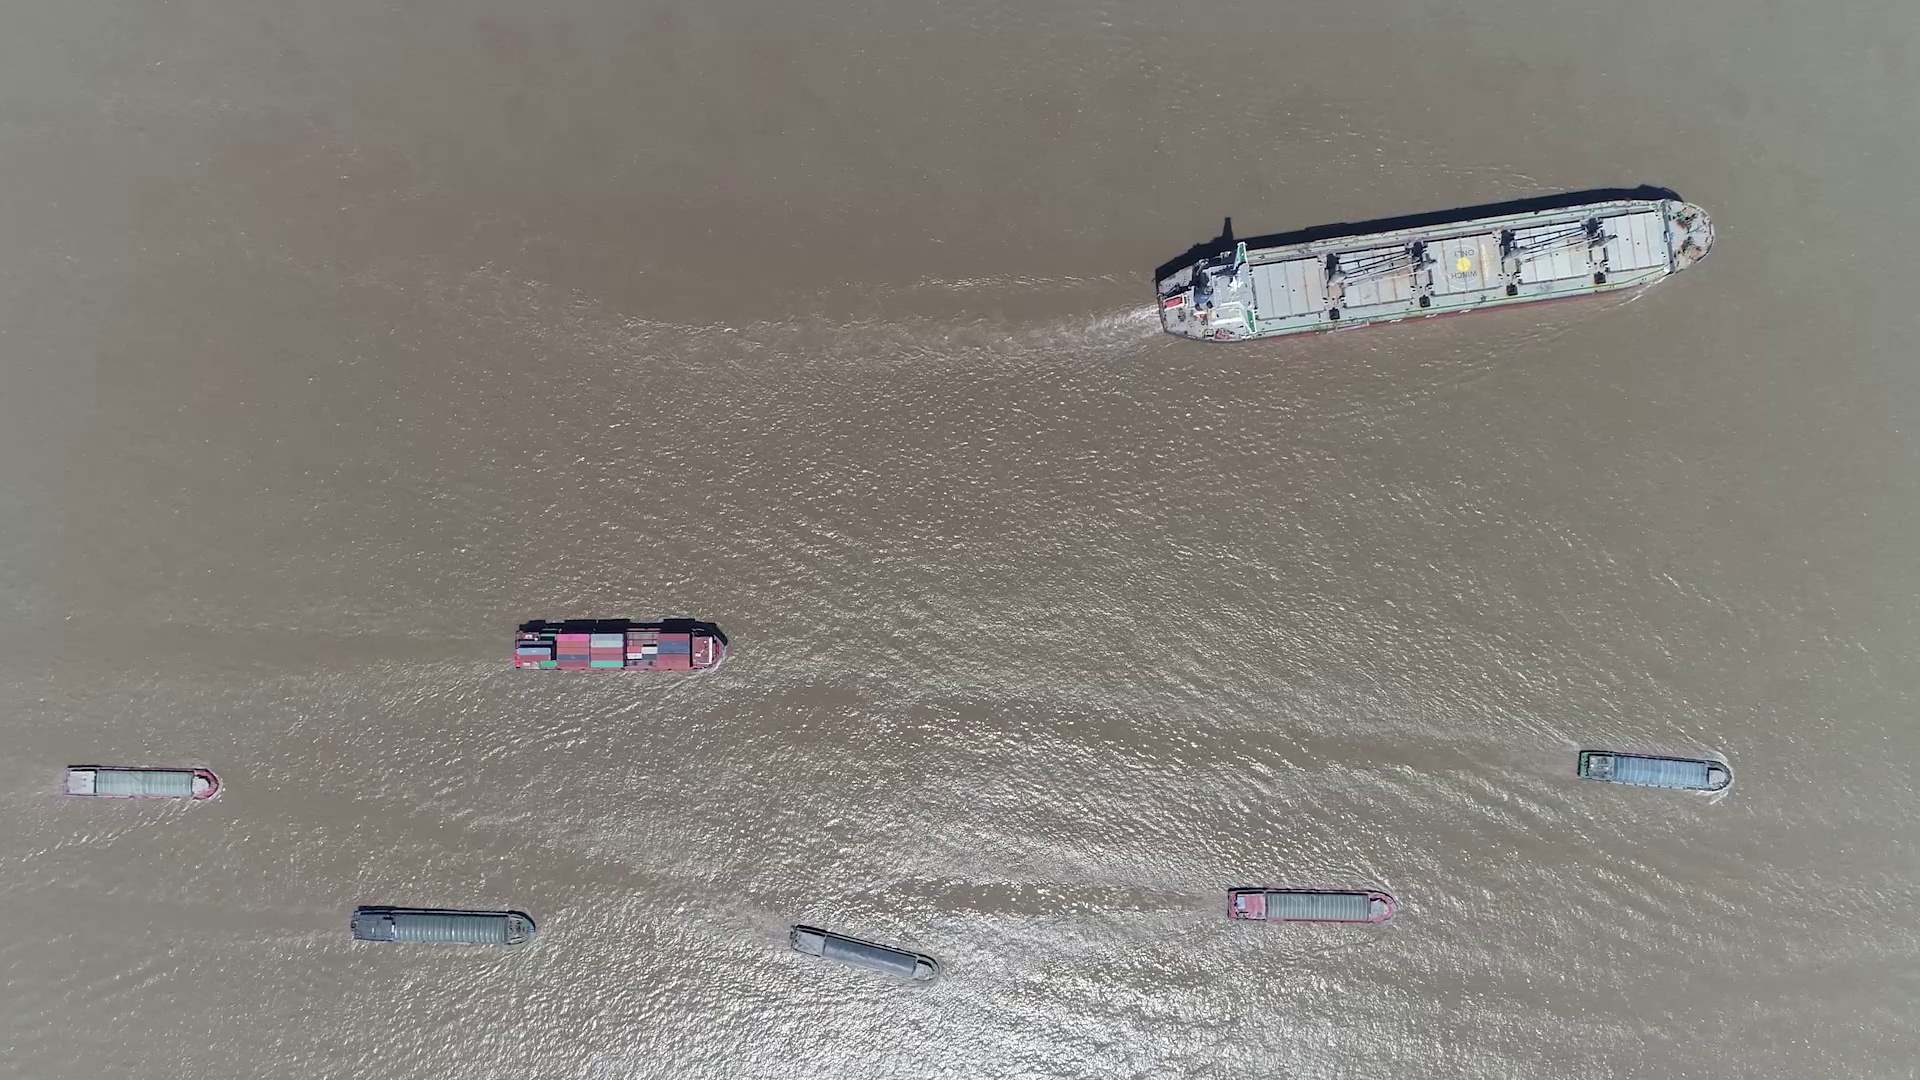ship: (1149, 200, 1714, 342), (512, 622, 724, 673), (787, 924, 938, 981), (352, 905, 535, 945), (1578, 750, 1731, 793), (1224, 887, 1393, 924), (62, 765, 219, 802)
